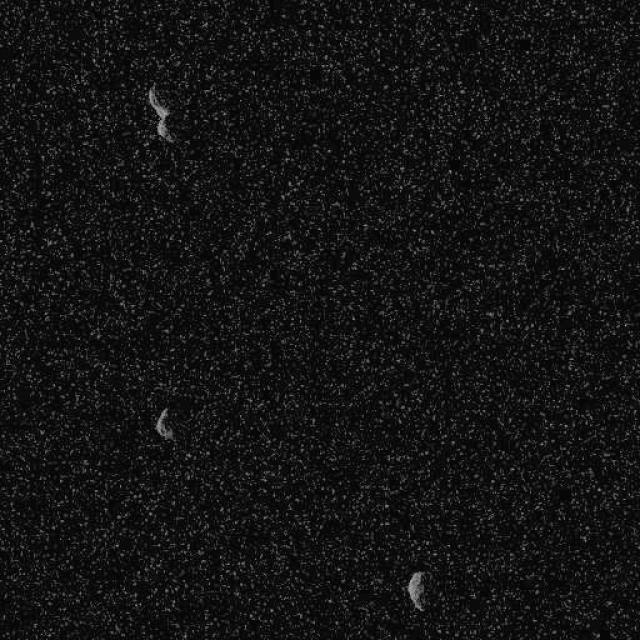D2: (146, 84, 175, 144), (406, 570, 426, 611), (154, 407, 175, 442)
